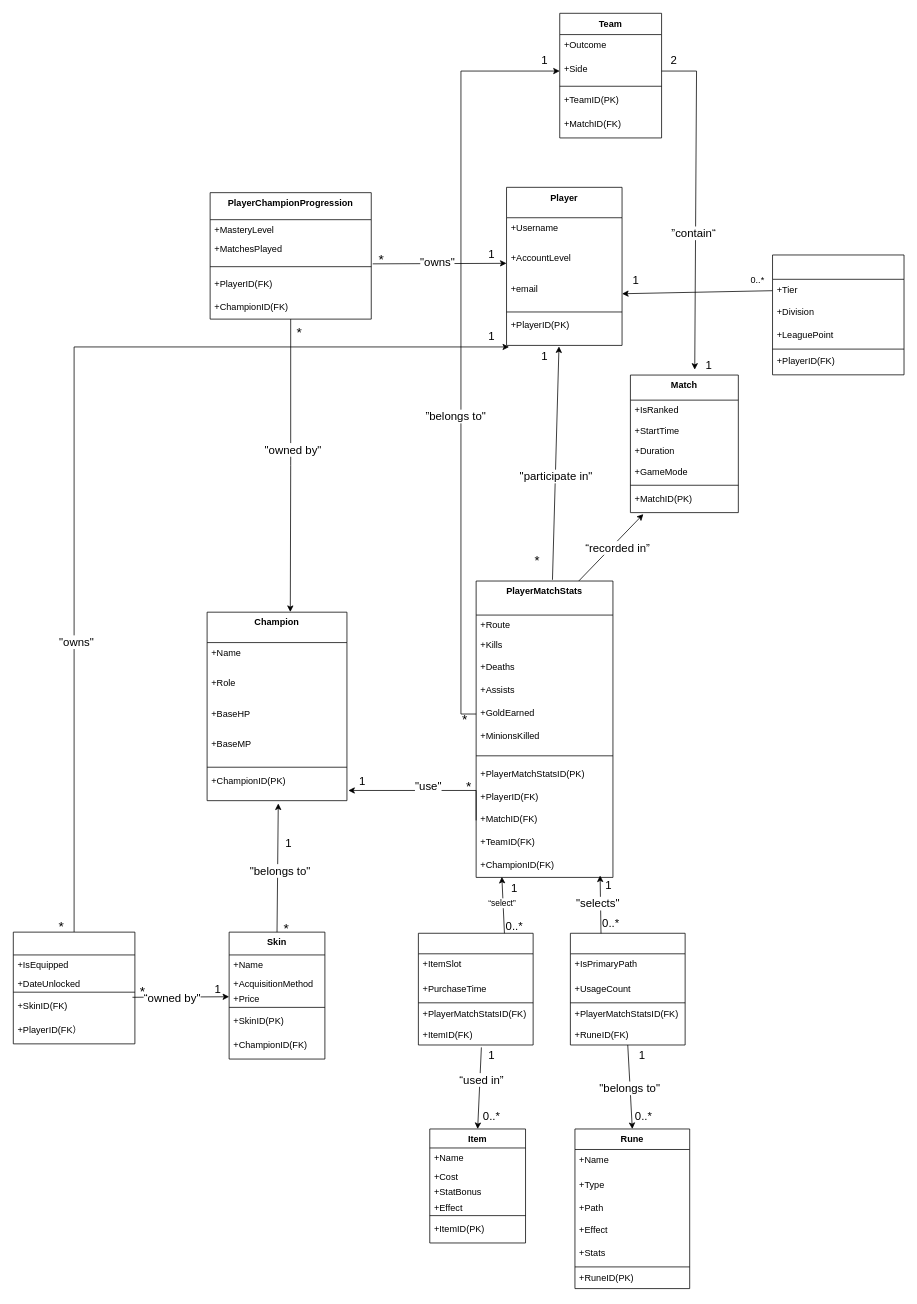
Image size: 917x1304. Some labels were removed from this diagram. The shapes that lost their labels are listed below. From the top down, each one's box as (x1, y1, x2, y2) in pixels, then its label:
(772, 254, 904, 375): Rank
(13, 931, 135, 1044): PlayerSkinOwnerShip
(418, 933, 533, 1045): PlayerMatchStats_Item
(570, 933, 685, 1045): PlayerMatchStats_Rune
